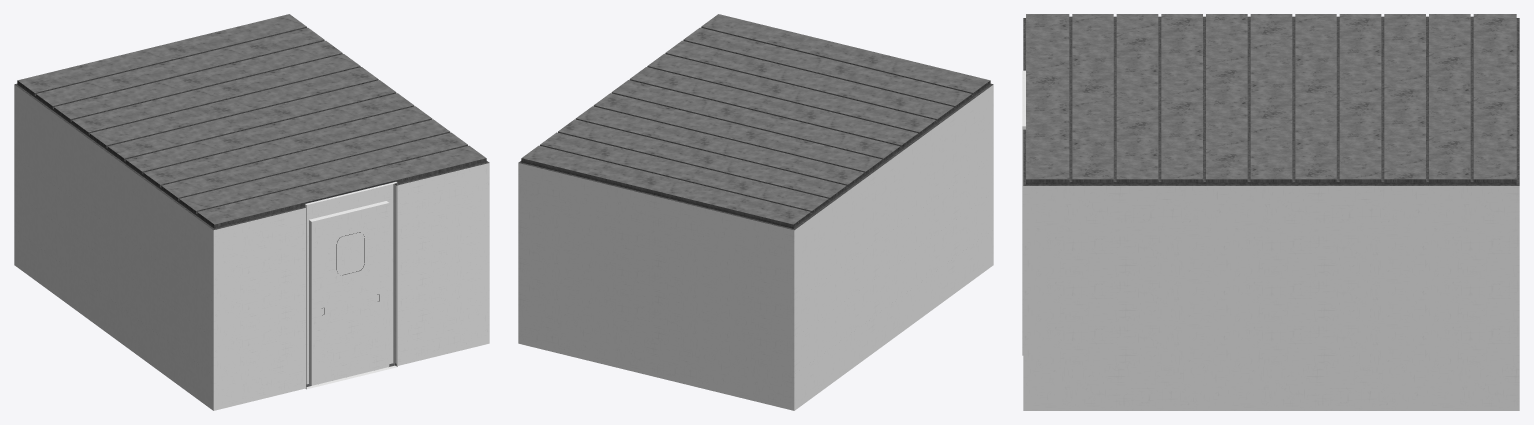
File: Workshop.fbx
The picture shows the model from 3 angles, left to right: view 1: azimuth 30°, elevation 25°; view 2: azimuth 150°, elevation 25°; view 3: azimuth 270°, elevation 25°; orthographic projection. The views are drawn at different scales.
Parts seen in each view (by area): view 1: Workshop; view 2: Workshop; view 3: Workshop.
Boxes of the visible parts, x1,y1,x2,y2 form: Workshop: (14,14,489,410); Workshop: (518,14,993,410); Workshop: (1022,14,1519,410).
Size of the model in its own units: 501 by 257 by 400.
